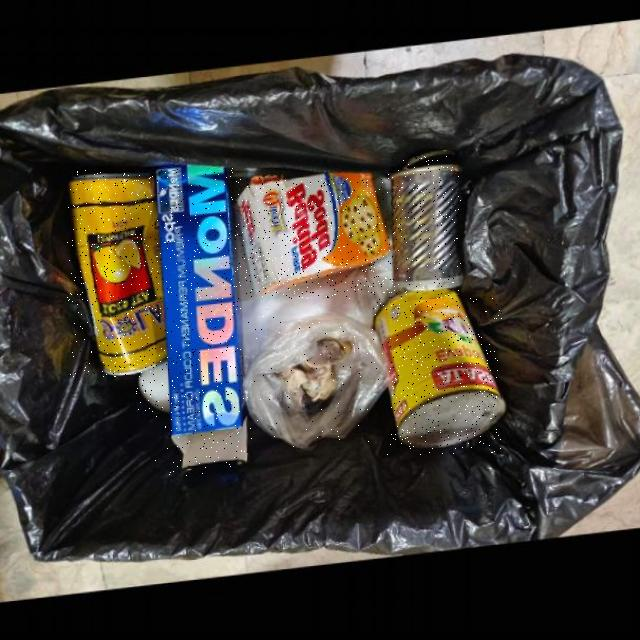biowaste: (276, 343, 351, 412), (137, 364, 167, 415)
metal: (372, 295, 502, 455), (67, 170, 165, 377), (388, 156, 461, 299)
paper: (155, 166, 247, 476), (236, 178, 389, 299)
plastic: (244, 317, 390, 453)
